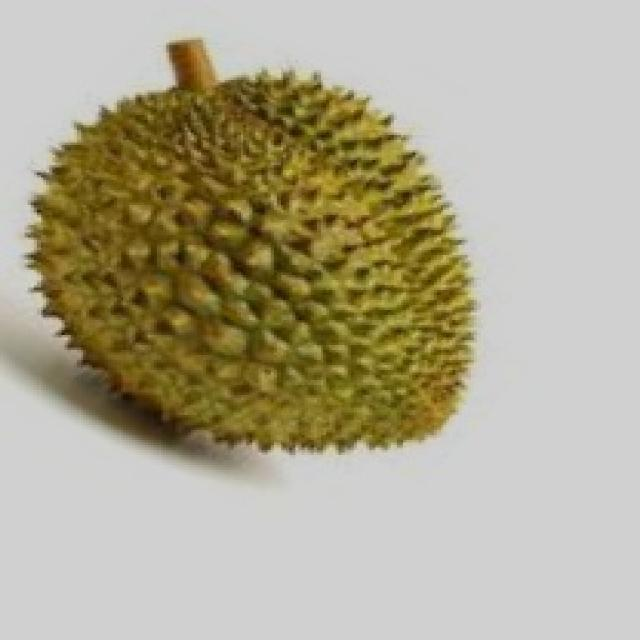fruit: (0, 57, 378, 500)
